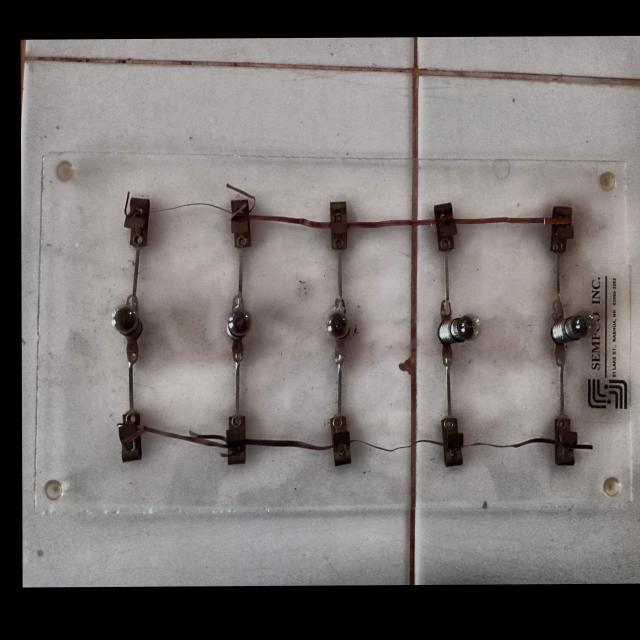Set of Resistors and Bulbs: (94, 174, 609, 486)
